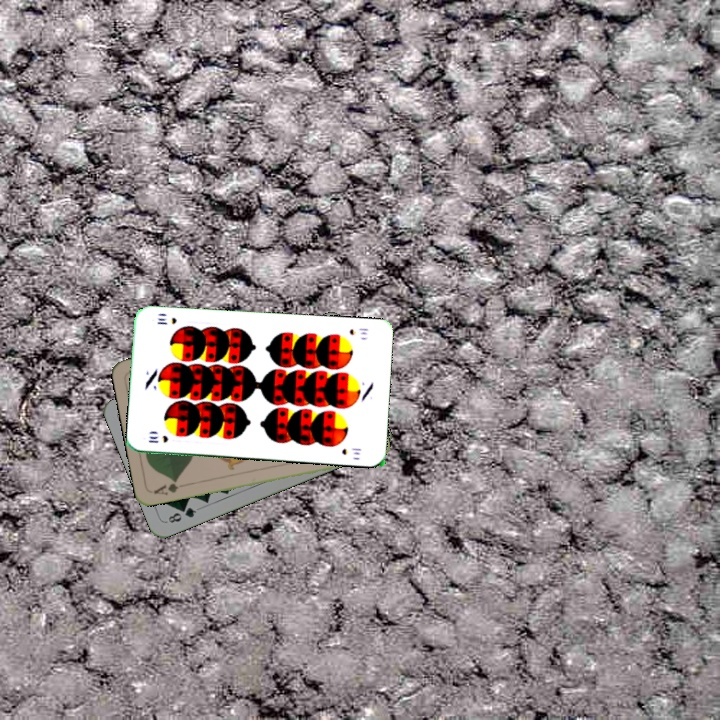G8: (162, 503, 199, 525)
GA: (150, 476, 189, 498)
S10: (144, 431, 171, 445), (345, 324, 371, 338)
